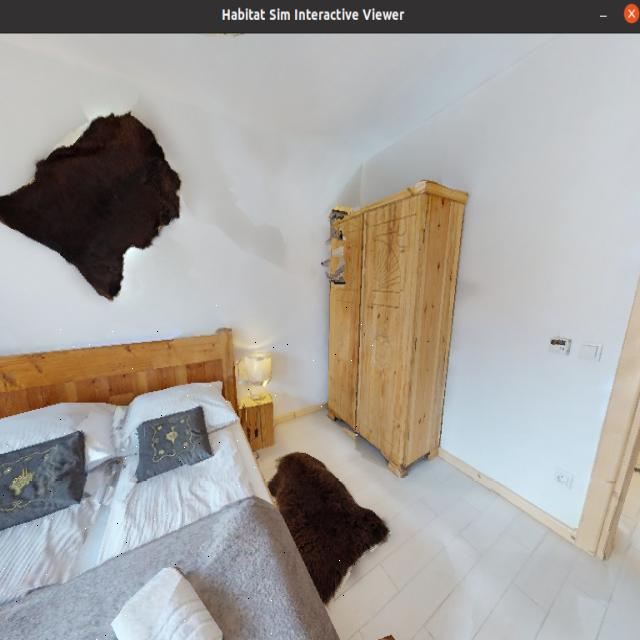bed: (0, 301, 374, 640)
